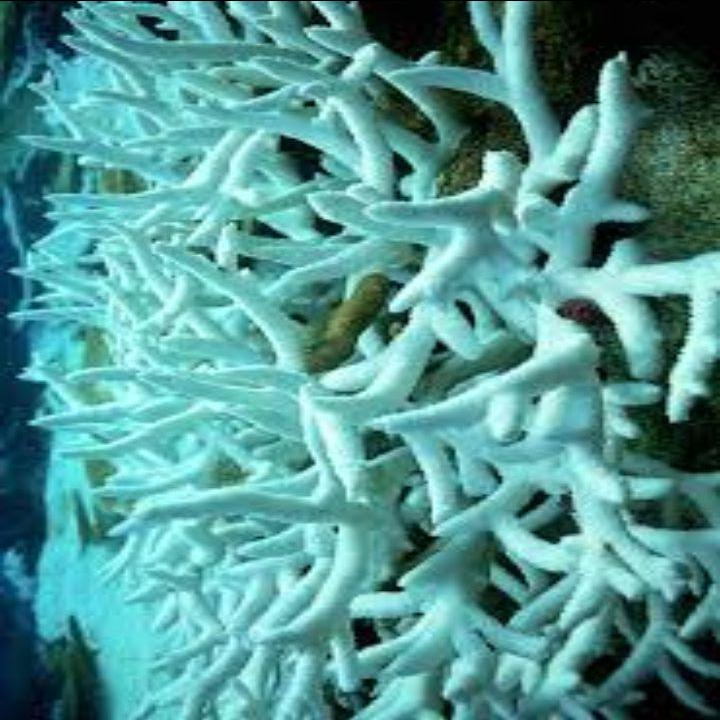Bleached-disease: (23, 0, 720, 720)
